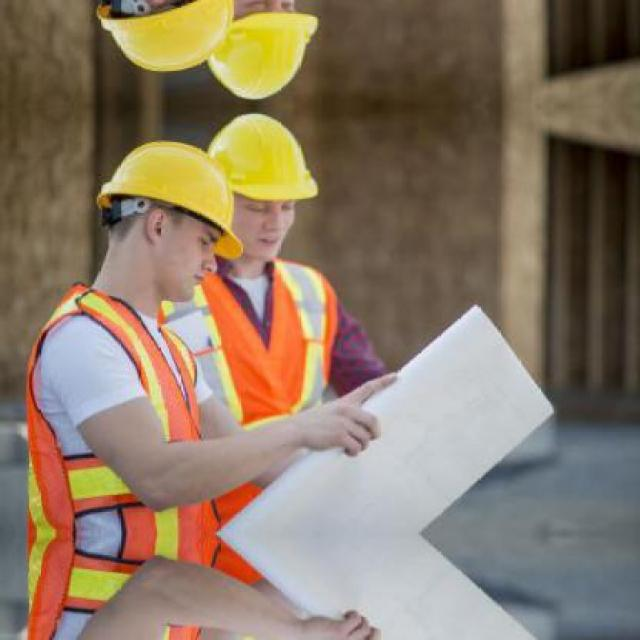Reflective-Jacket: (17, 284, 208, 532), (181, 252, 354, 518)
Safety-Helmet: (85, 134, 249, 259), (200, 108, 326, 217)
